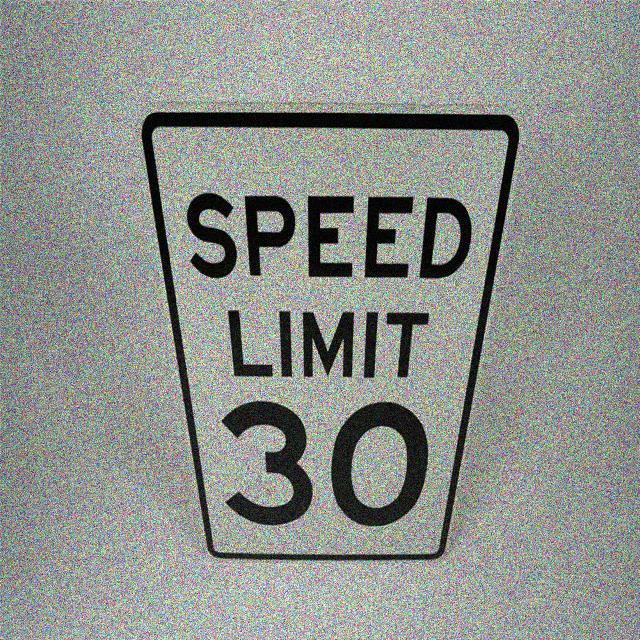speedLimit30: (136, 94, 522, 567)
